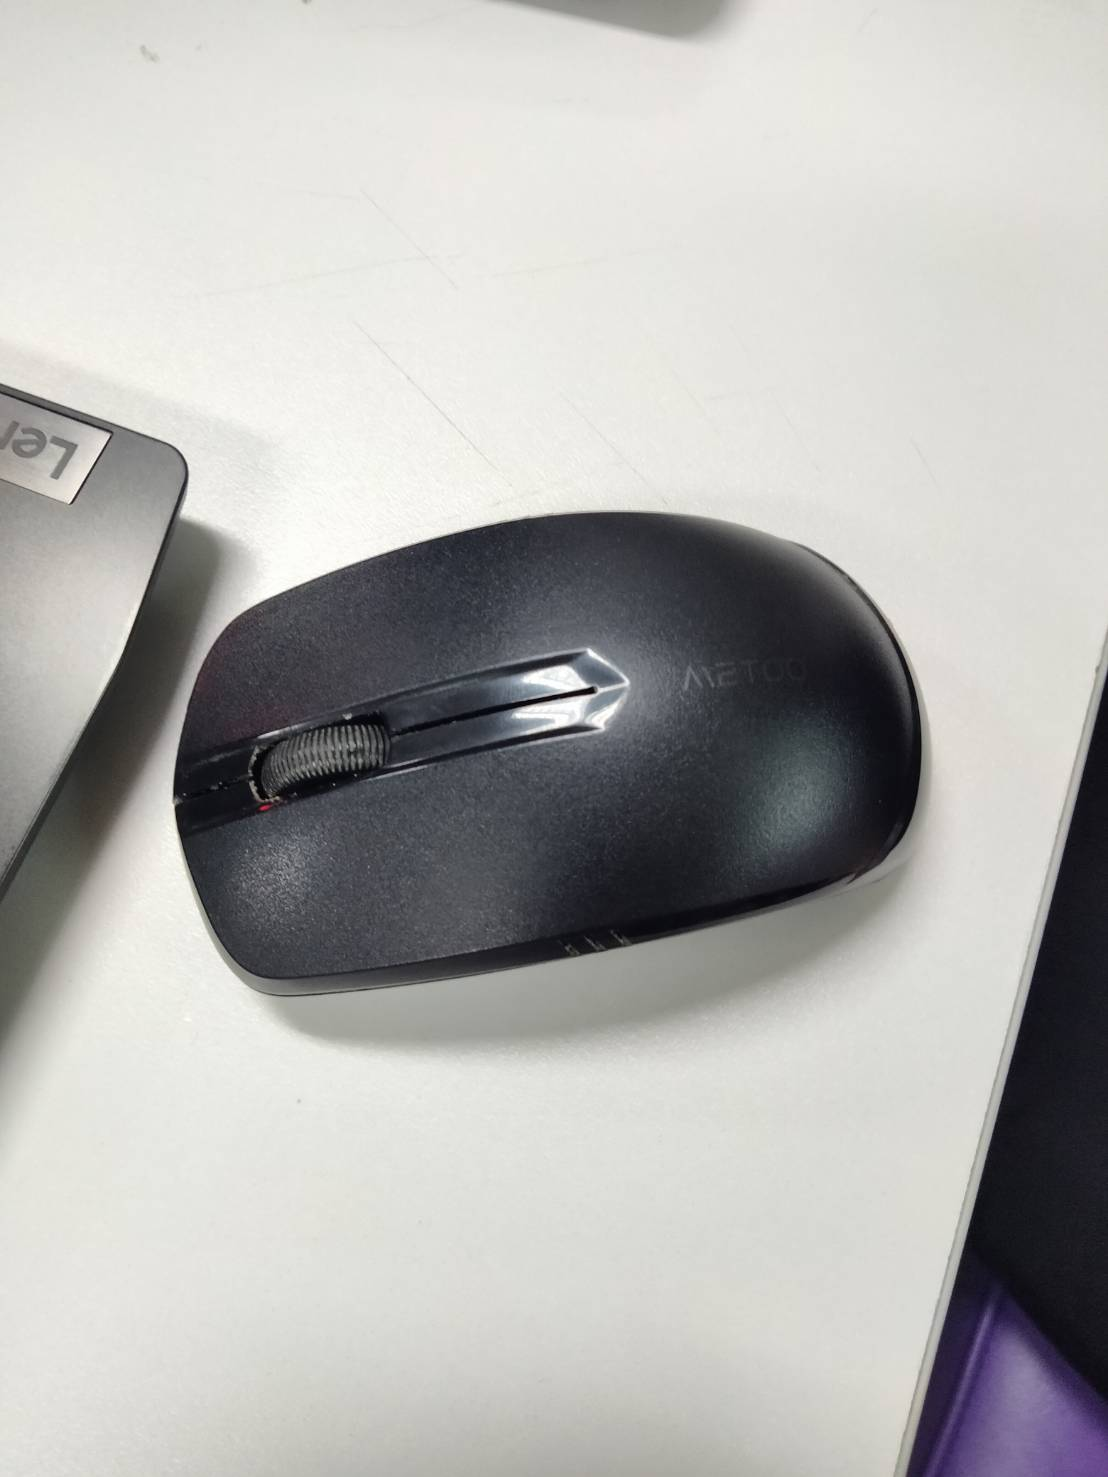mouse: (102, 477, 968, 1020)
